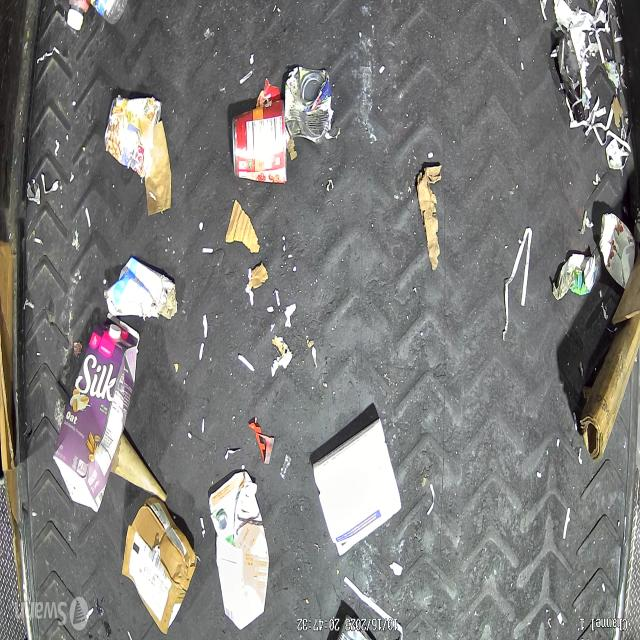can: (231, 100, 288, 186), (104, 96, 162, 179), (284, 65, 334, 146), (600, 208, 637, 290)
non_white_jug: (52, 310, 140, 514), (208, 472, 268, 633)
